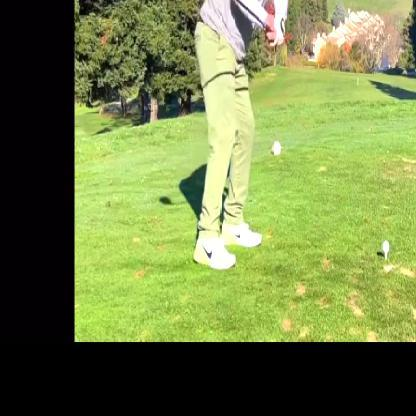ClubHead: (380, 235, 393, 256)
